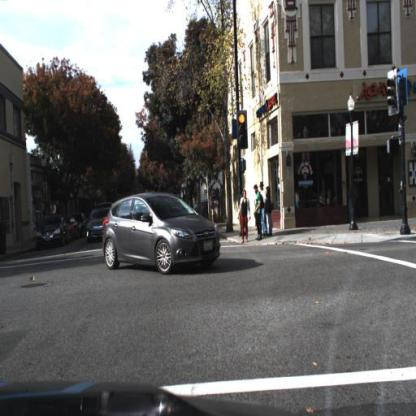car: (101, 184, 224, 278), (105, 193, 220, 271), (32, 208, 72, 253), (36, 215, 68, 250), (85, 211, 105, 242)
pedestrian: (238, 191, 253, 246), (253, 185, 265, 244), (266, 187, 276, 237), (260, 183, 269, 238)
trafficLight: (238, 111, 249, 148)
